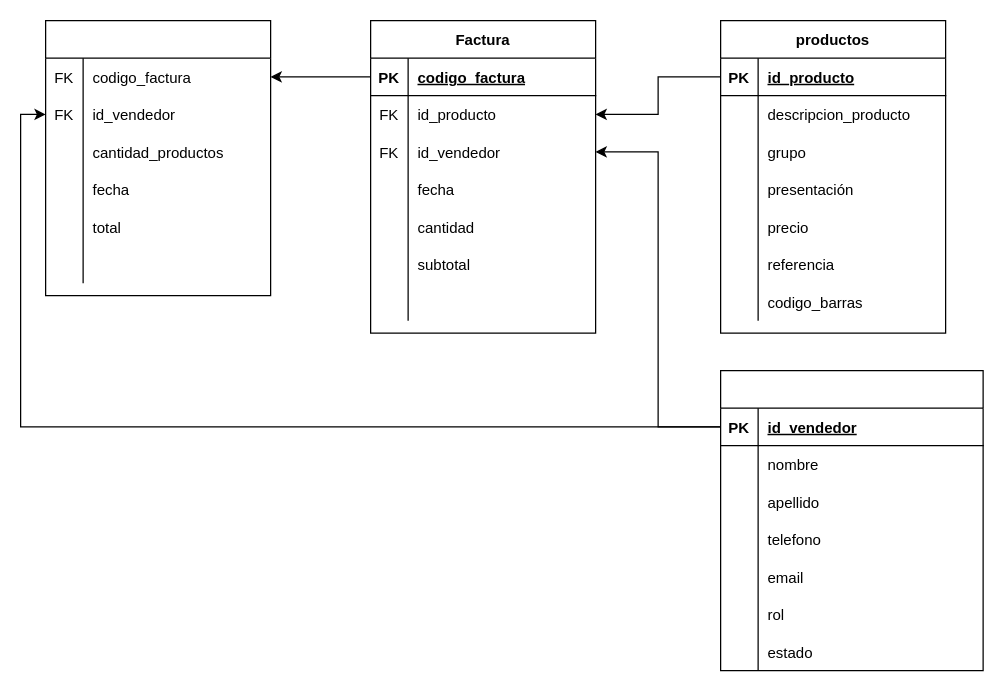
Some shapes in this 1004 by 691 pixel diagram are drawn without their labels. The shapes that lost their labels are listed below. From the top down, each one's box as (x1, y1, x2, y2) in pixels, then its label:
(44, 19, 271, 296): Listado_Venta
(719, 369, 983, 671): Usuario
